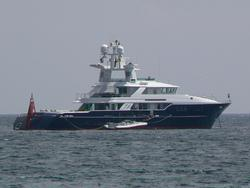yacht: (12, 36, 233, 132)
